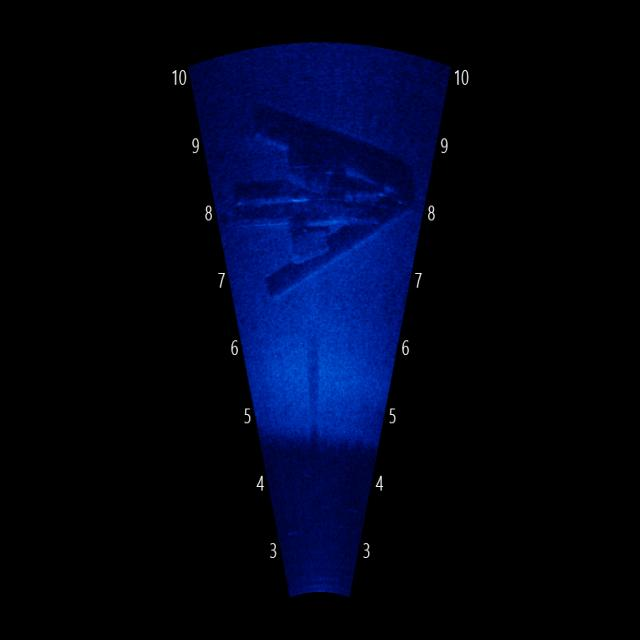triangle: (242, 104, 414, 309)
